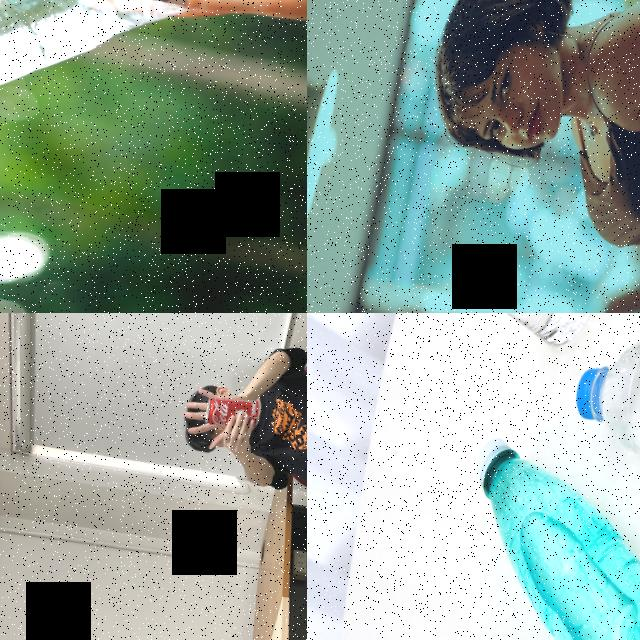bottle: (0, 0, 294, 181), (434, 433, 640, 640), (563, 313, 640, 497)
can: (205, 388, 264, 434)
